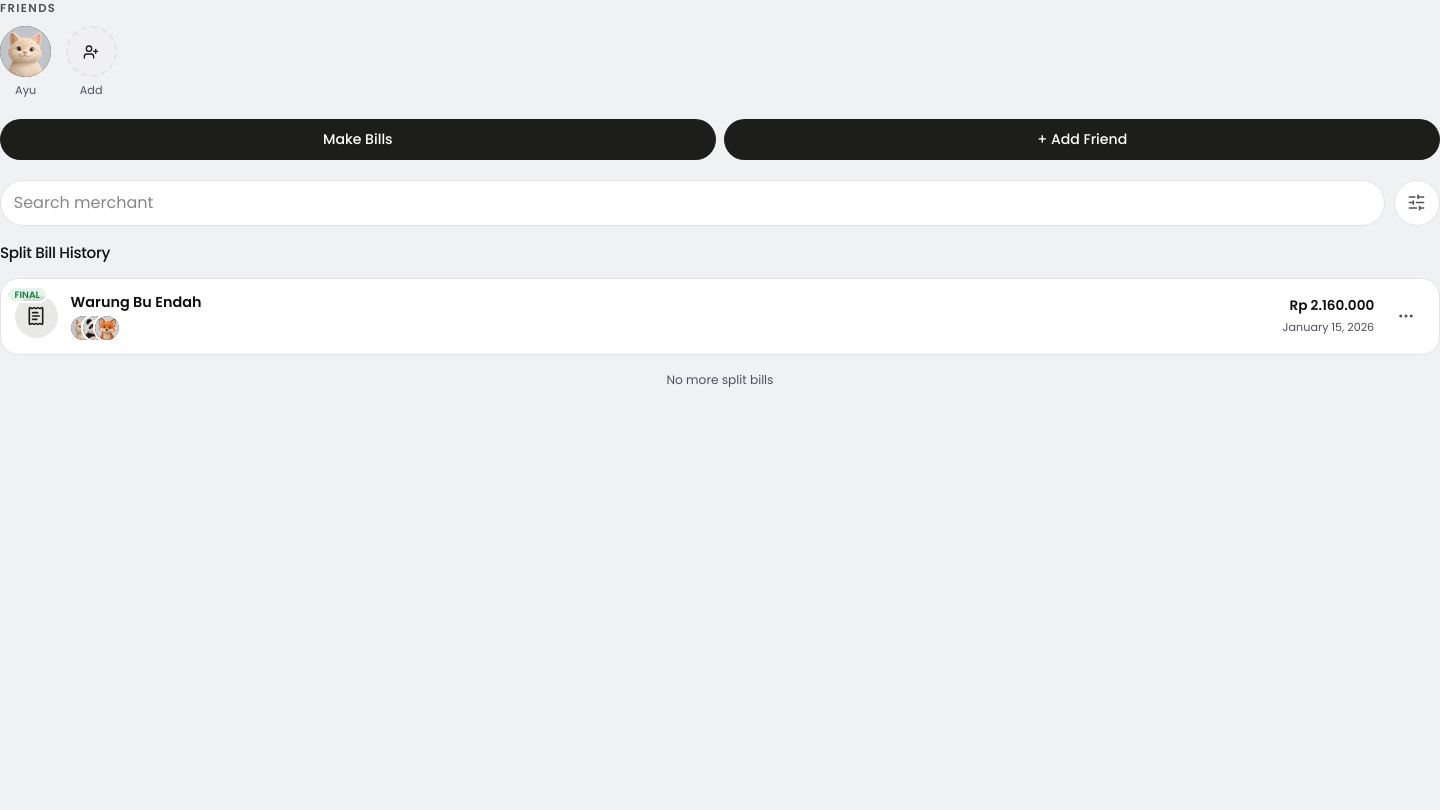
Scenario: split-bill history section › opens the action sheet and fetches the result to show in the result sheet
Click the button named "Split bill actions": (1406, 316) [1387, 297, 1425, 335]
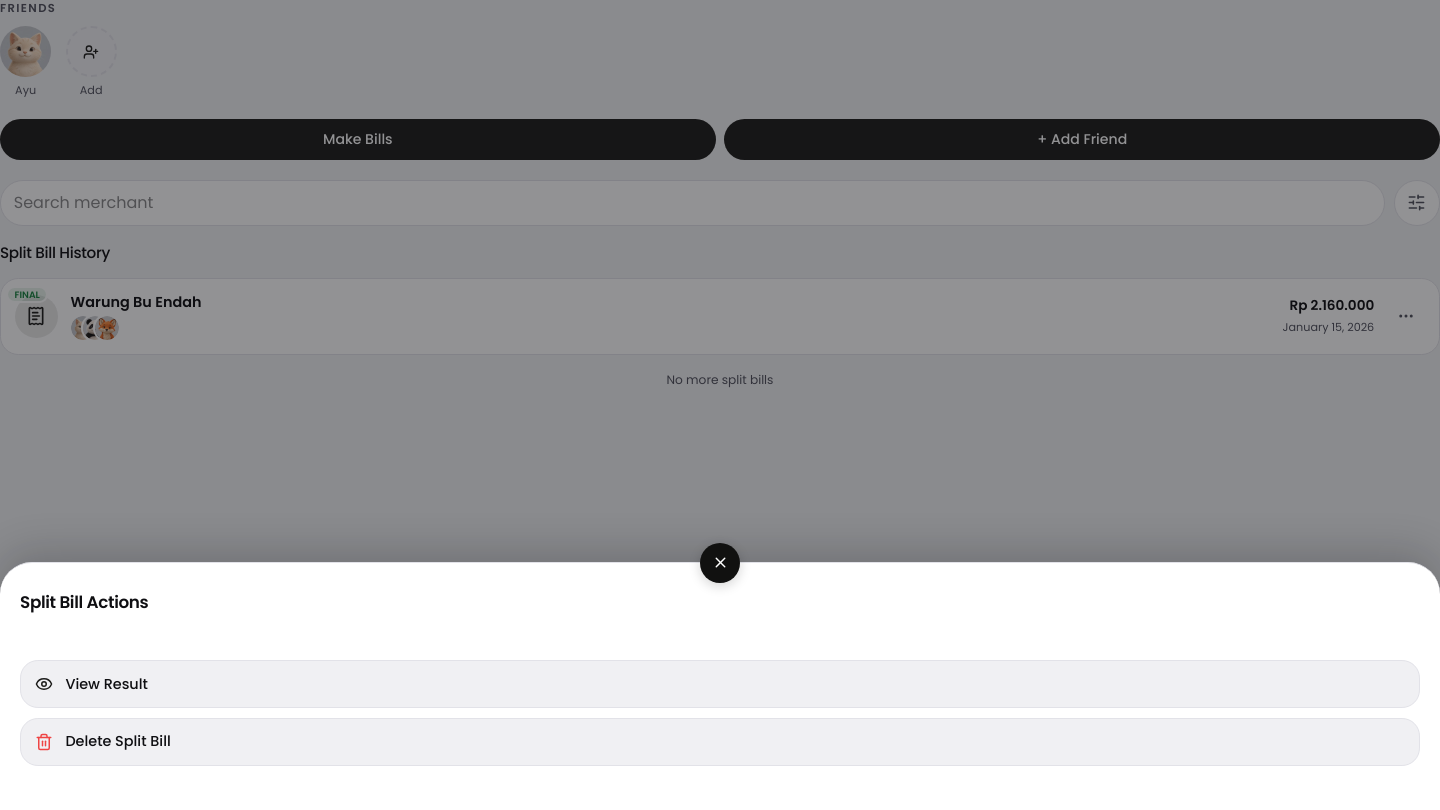
Click the button "View Result": (107, 684) [20, 660, 1420, 708]
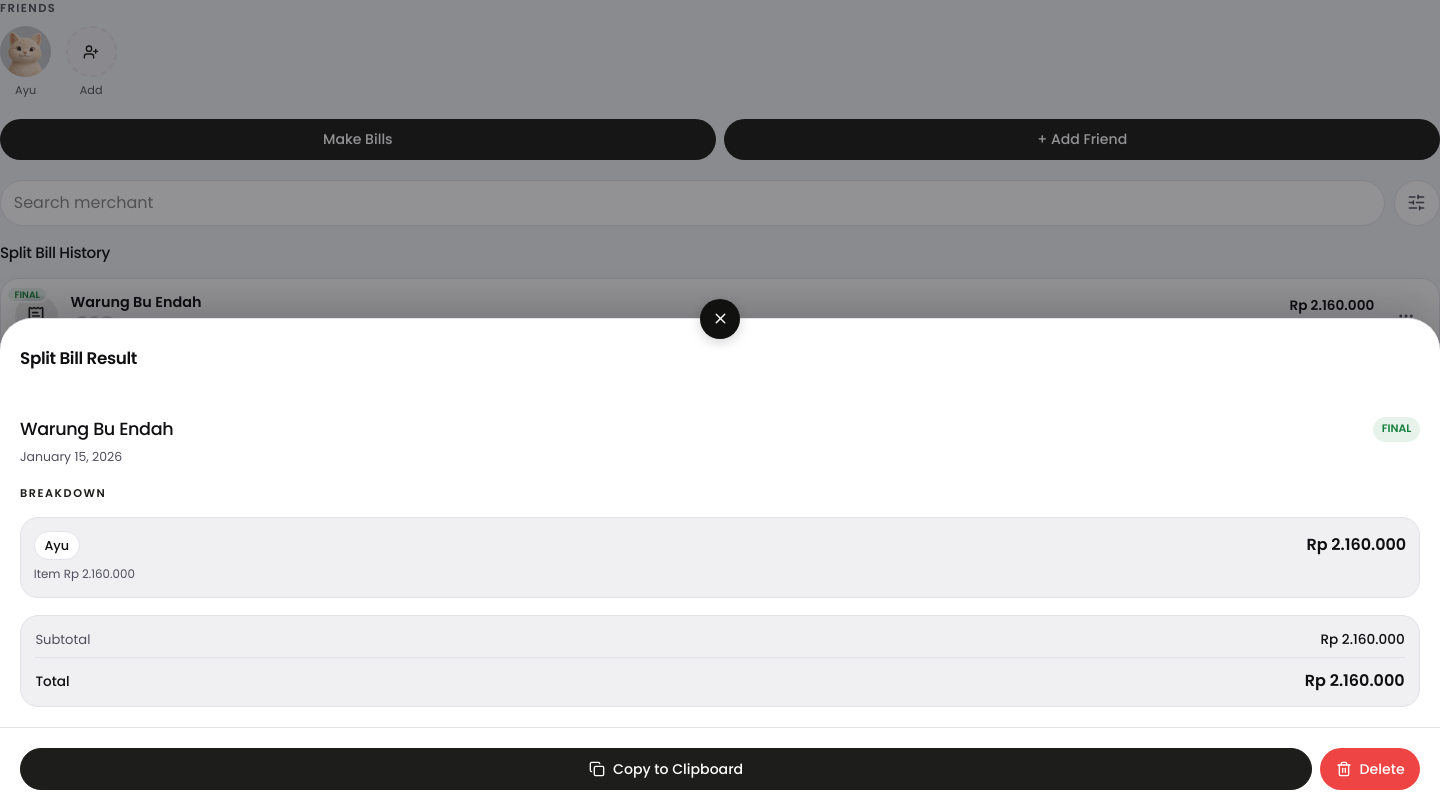
Result: the dialog "Split Bill Result" is shown
Result: the heading "Warung Bu Endah" is shown at [20, 416, 173, 443]
Result: the text "FINAL" is shown at [1373, 417, 1420, 442]
